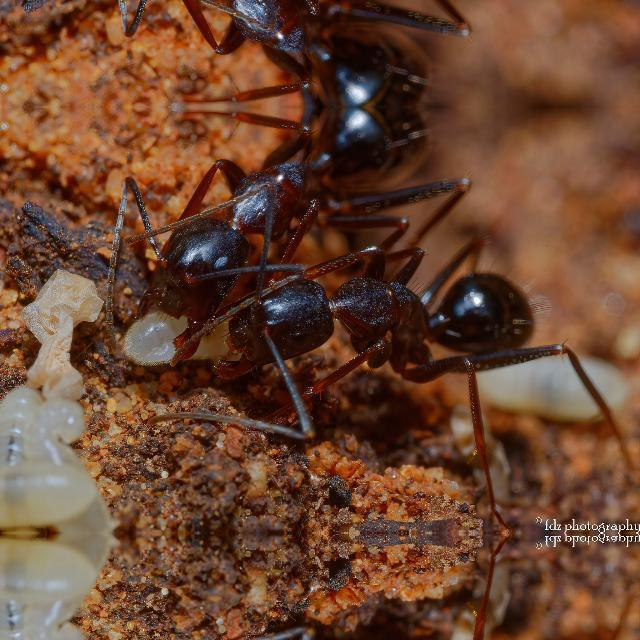Camponotus: (198, 209, 602, 459), (91, 106, 442, 322), (90, 0, 442, 106)
